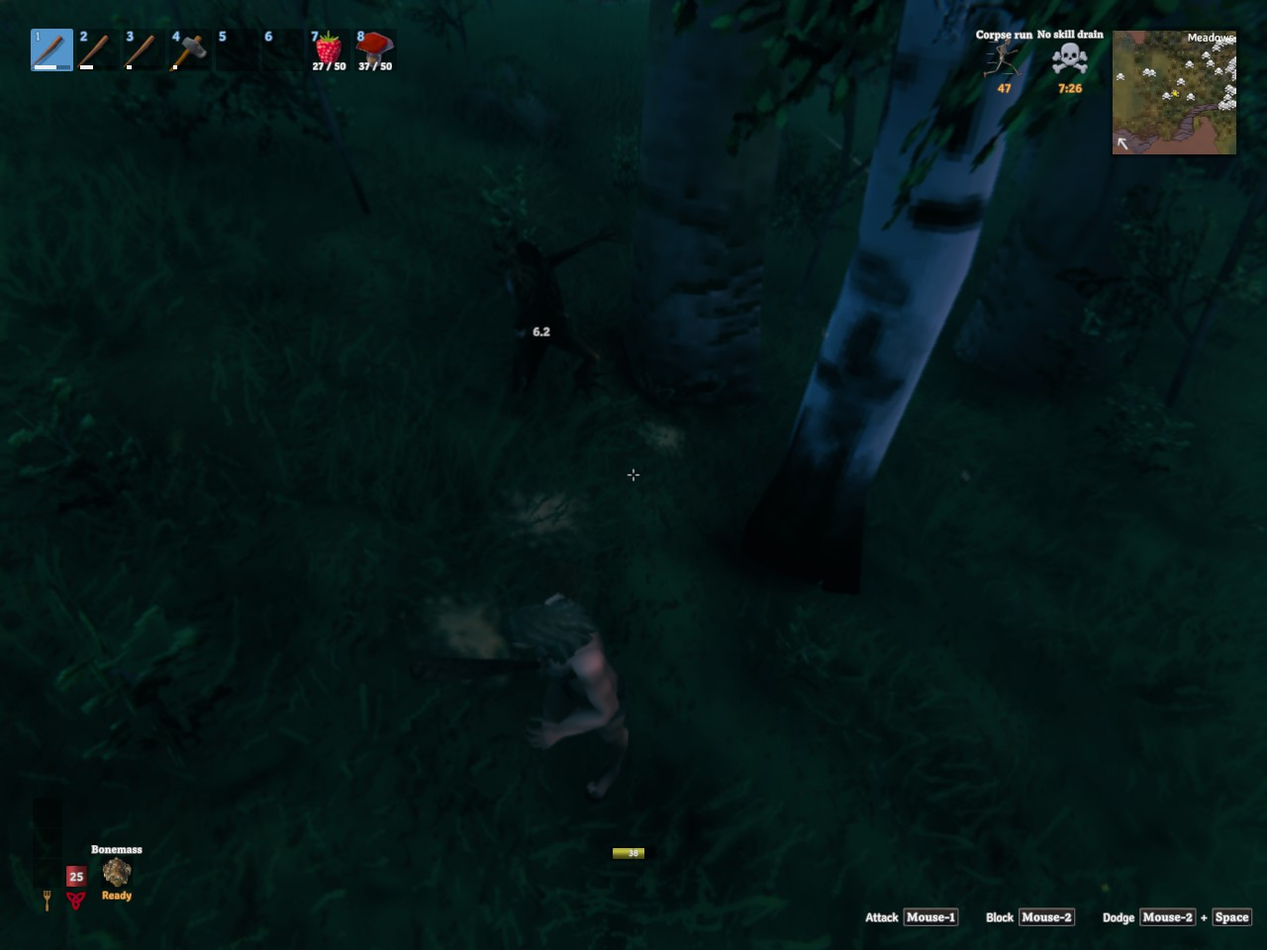Greyling: (506, 231, 613, 392)
